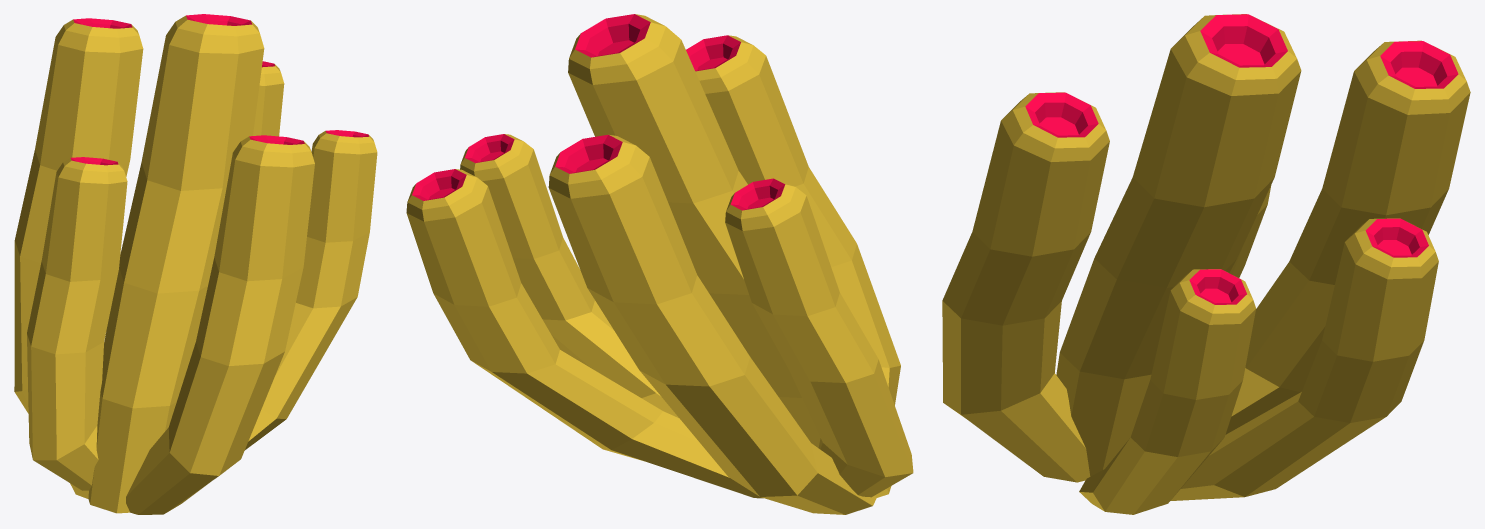
Rendered from propSponges1B.fbx.
3 views of the same model, side by side, from view 1: azimuth 30°, elevation 25°; view 2: azimuth 150°, elevation 25°; view 3: azimuth 270°, elevation 25° (orthographic). The views are drawn at different scales.
Parts seen in each view (by area): view 1: Sponges1B; view 2: Sponges1B; view 3: Sponges1B.
Boxes of the visible parts, left/top/right/bottom form: Sponges1B: left=14, top=14, right=377, bottom=514; Sponges1B: left=406, top=14, right=913, bottom=514; Sponges1B: left=942, top=14, right=1470, bottom=514.
Size of the model in its own units: 264 by 279 by 257.
